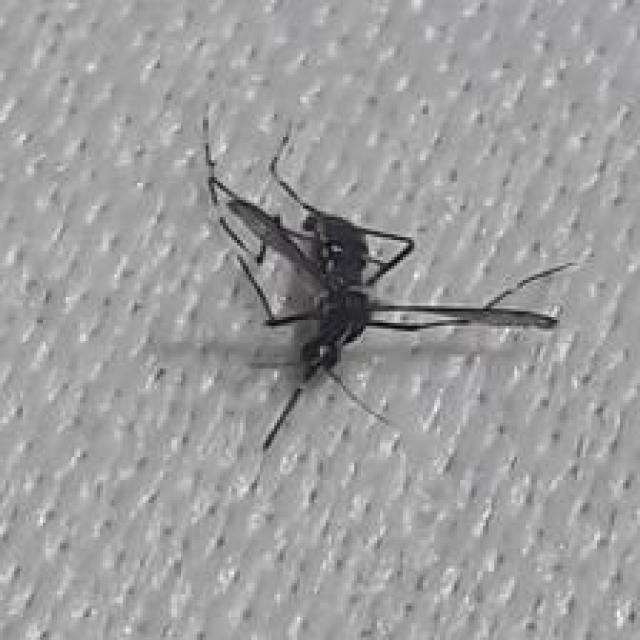Aedes albopictus: (198, 107, 578, 482)
